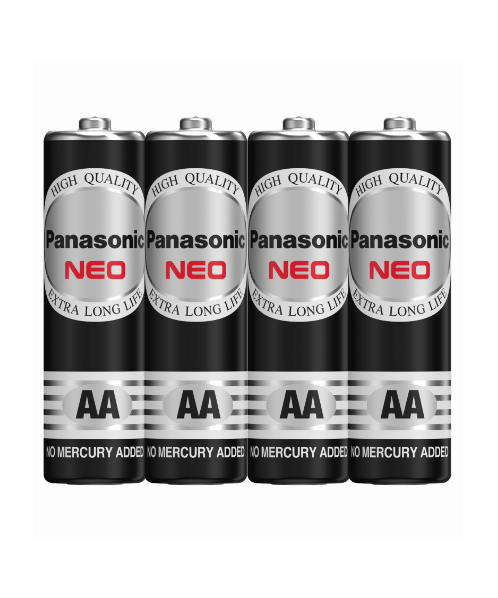Battery: (40, 108, 146, 486), (349, 114, 456, 488), (247, 115, 347, 491), (144, 111, 244, 487)
